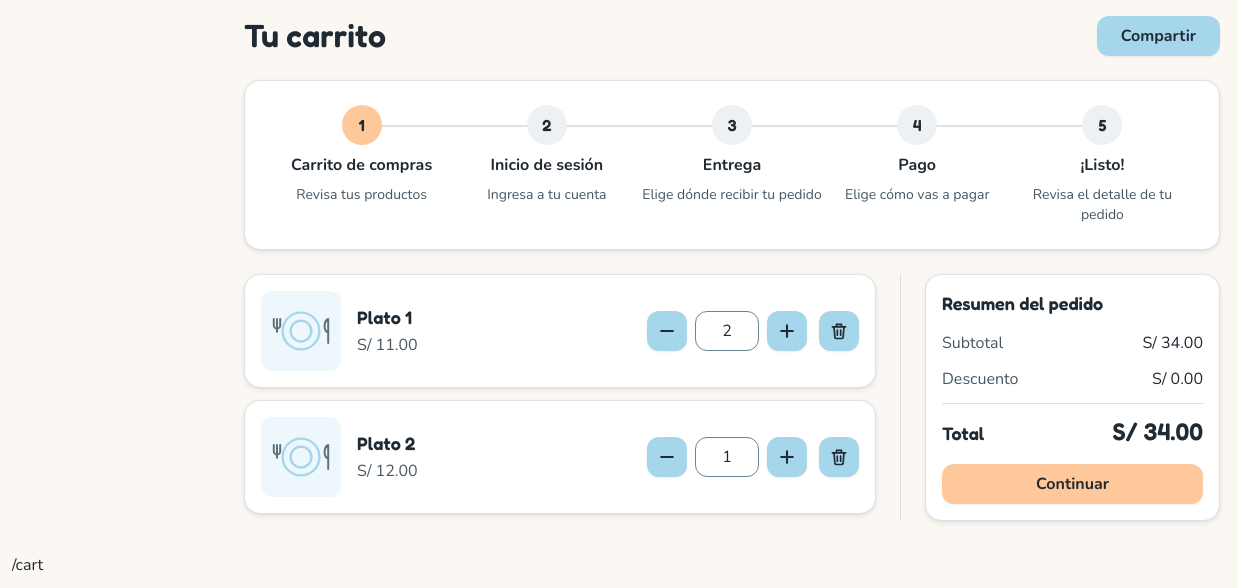
Test: CartPage › editar cantidades › + y − cambian la cantidad sin avisar y + se deshabilita en el stock
What coordinates should you click on to do the following:
click the button named "Agregar una unidad de Plato 1"
I would click on:
 (787, 331)
Its box is x1=767 y1=311 x2=807 y2=351.
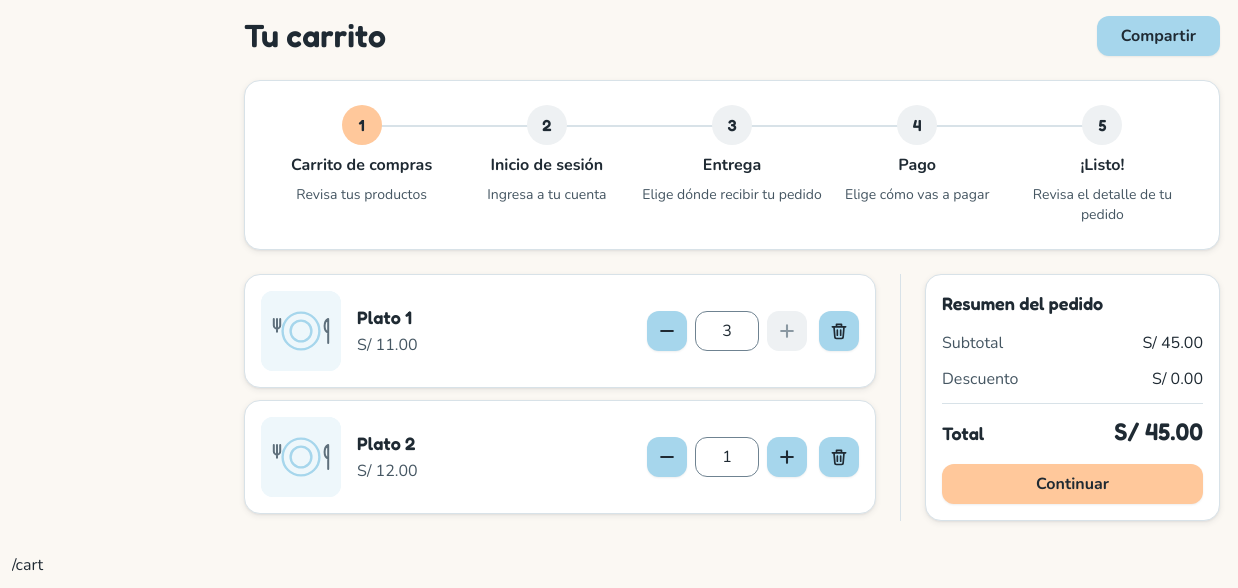
Check: the field named "Cantidad de Plato 1" holds "3", box x1=695 y1=311 x2=759 y2=351
Check: the button named "Agregar una unidad de Plato 1" is disabled, box x1=767 y1=311 x2=807 y2=351
What coordinates should you click on to do the following:
click the button named "Quitar una unidad de Plato 1"
I would click on:
 (667, 331)
Its box is x1=647 y1=311 x2=687 y2=351.
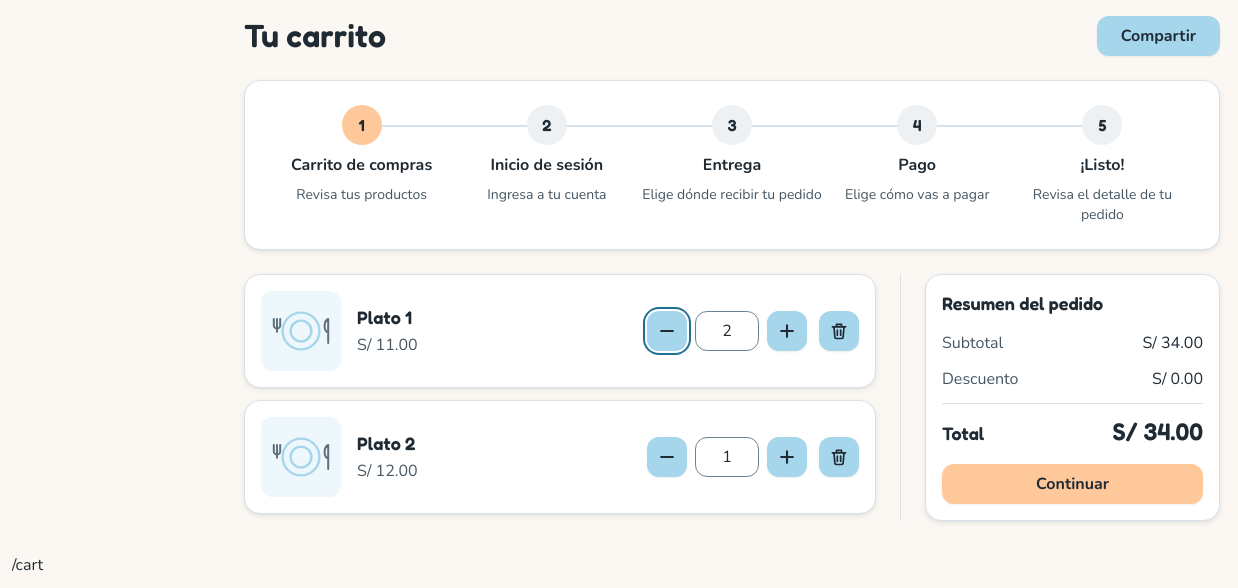
Check: the field named "Cantidad de Plato 1" holds "2", box x1=695 y1=311 x2=759 y2=351
